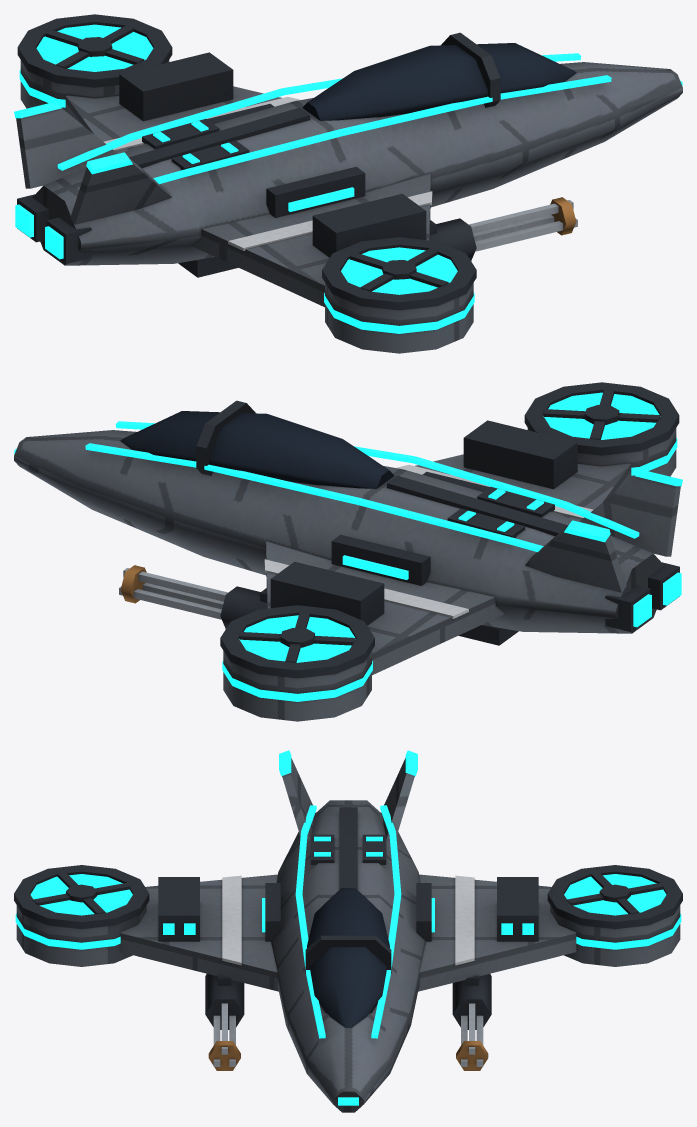
The model's file is gunship.glb.
3 views of the same model, one above another, from view 1: azimuth 30°, elevation 25°; view 2: azimuth 150°, elevation 25°; view 3: azimuth 270°, elevation 25° (orthographic). The views are drawn at different scales.
Visible parts, largest first — view 1: hull; view 2: hull; view 3: hull.
Boxes of the visible parts, <box> form: hull: <box>14,14,682,353</box>; hull: <box>14,382,682,721</box>; hull: <box>14,750,682,1112</box>.
Bounding box in the file's own units: 0.5964 × 0.148 × 0.6168.
Materials: 2 (1 with a texture image).
